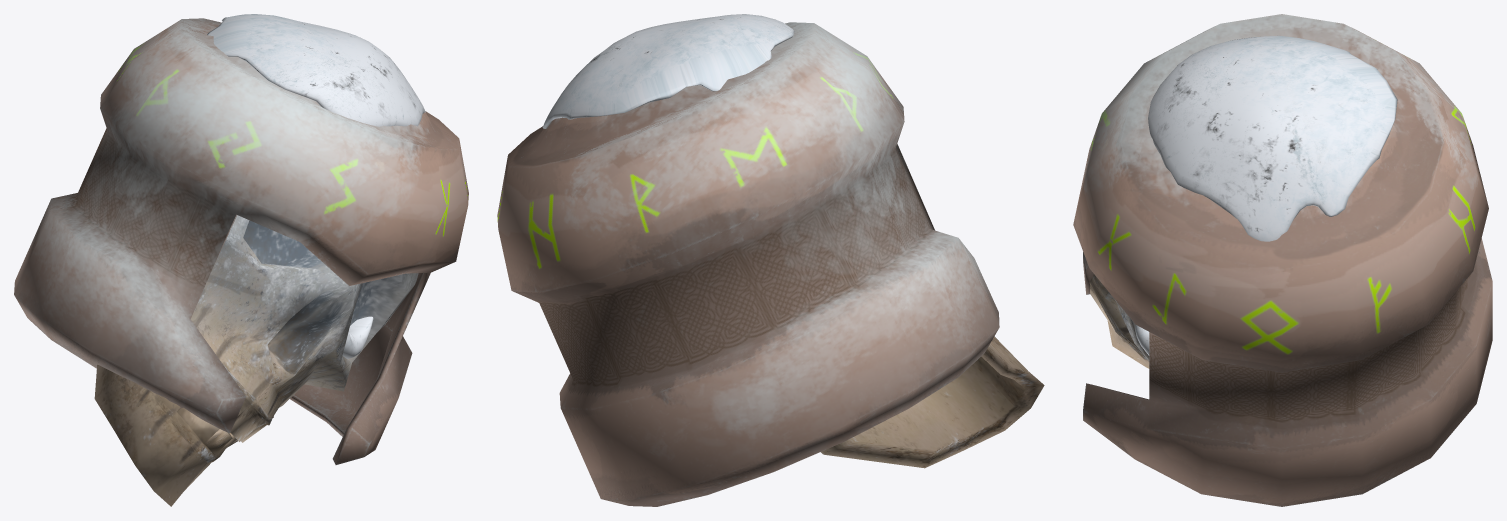
File: helm skull.fbx
3 views of the same model, side by side, from view 1: azimuth 30°, elevation 25°; view 2: azimuth 150°, elevation 25°; view 3: azimuth 270°, elevation 25° (orthographic). The views are drawn at different scales.
Visible parts, largest first — view 1: Helmet005, JotunSkullNormal002, snowhelm; view 2: Helmet005, snowhelm, JotunSkullNormal002; view 3: Helmet005, snowhelm, JotunSkullNormal002.
Boxes of the visible parts, x1=… form: Helmet005: x1=14, y1=18, x2=468, y2=464; JotunSkullNormal002: x1=94, y1=215, x2=418, y2=506; snowhelm: x1=207, y1=14, x2=425, y2=358; Helmet005: x1=497, y1=22, x2=999, y2=506; snowhelm: x1=542, y1=14, x2=794, y2=128; JotunSkullNormal002: x1=821, y1=336, x2=1044, y2=468; Helmet005: x1=1073, y1=14, x2=1492, y2=506; snowhelm: x1=1135, y1=35, x2=1397, y2=355; JotunSkullNormal002: x1=1089, y1=274, x2=1149, y2=368.
Size of the model in its own units: 33.01 by 31.62 by 28.41.
